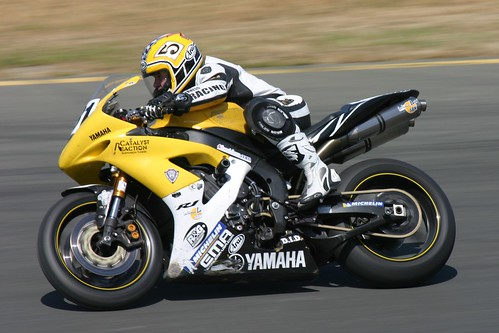helmet: (139, 25, 203, 93)
